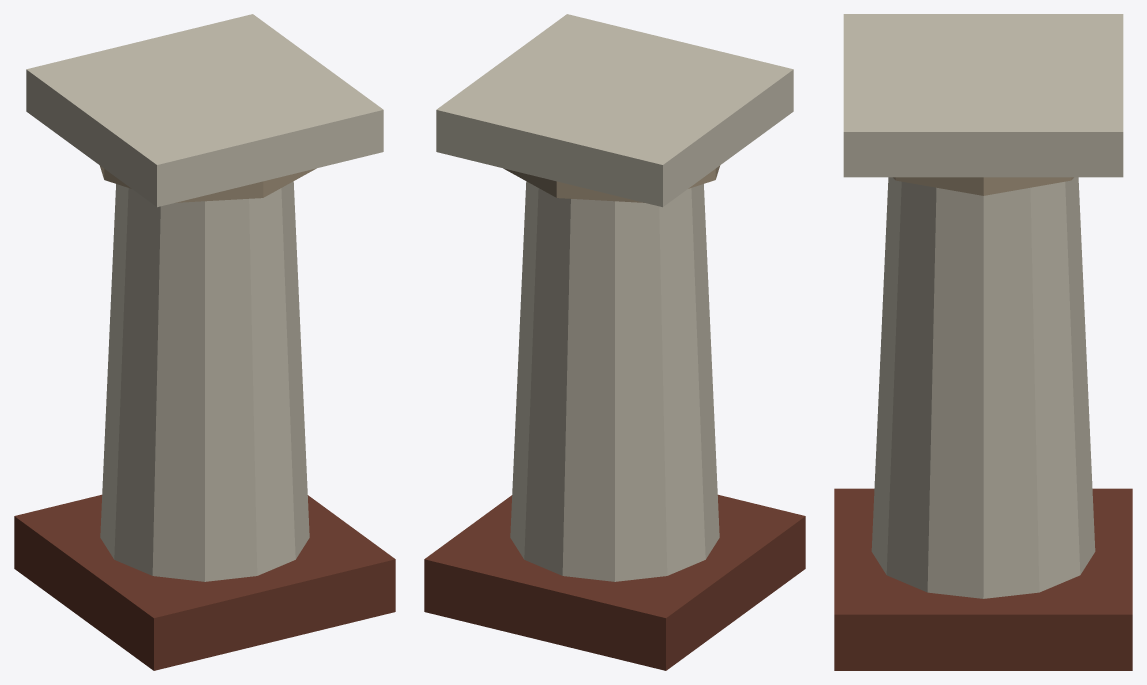
File: Pier__Round.fbx
The picture shows the model from 3 angles, left to right: view 1: azimuth 30°, elevation 25°; view 2: azimuth 150°, elevation 25°; view 3: azimuth 270°, elevation 25°; orthographic projection. The views are drawn at different scales.
Parts seen in each view (by area): view 1: Pier__Round; view 2: Pier__Round; view 3: Pier__Round.
Boxes of the visible parts, bbox=[...] form: Pier__Round: bbox=[14, 14, 395, 670]; Pier__Round: bbox=[424, 14, 805, 670]; Pier__Round: bbox=[834, 14, 1132, 670].
Bounding box in the file's own units: 96 × 190 × 96.
Materials: 1 (1 with a texture image).
